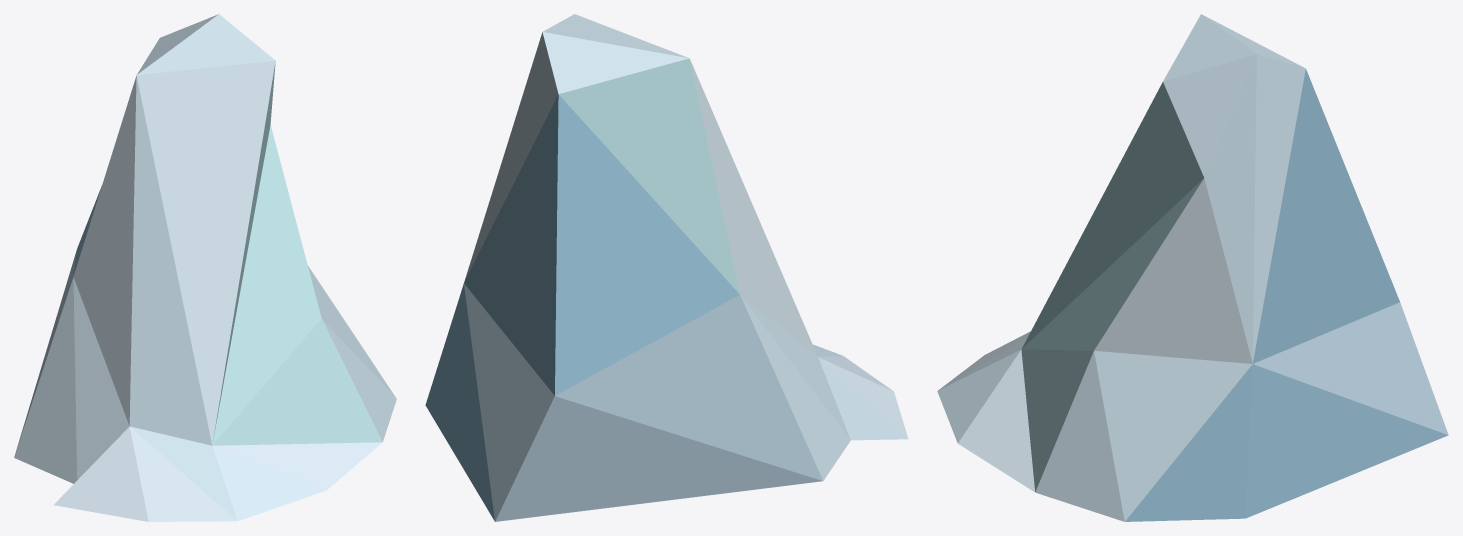
File: Iceberg 9.fbx
3 views of the same model, side by side, from view 1: azimuth 30°, elevation 25°; view 2: azimuth 150°, elevation 25°; view 3: azimuth 270°, elevation 25° (orthographic). The views are drawn at different scales.
Visible parts, largest first — view 1: Iceberg 17; view 2: Iceberg 17; view 3: Iceberg 17.
Part boxes in pixels (<box>): Iceberg 17: <box>14,14,396,521</box>; Iceberg 17: <box>425,14,908,521</box>; Iceberg 17: <box>937,14,1448,521</box>.
Size of the model in its own units: 4758 by 4586 by 5248.
